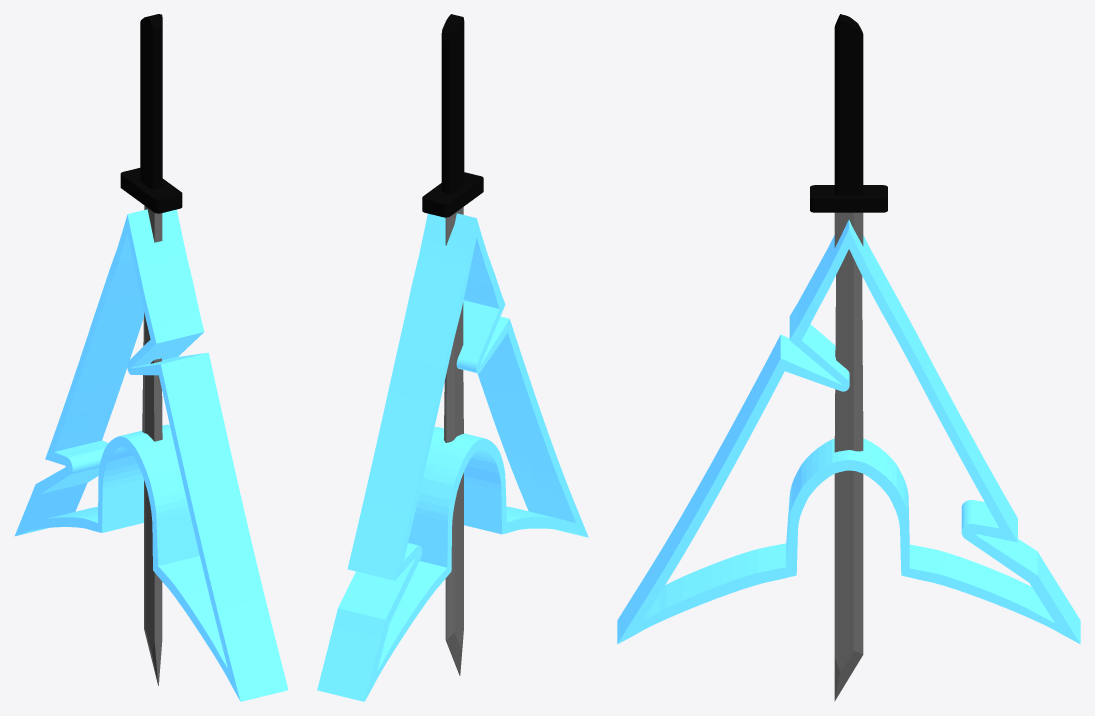
File: frame.fbx
3 views of the same model, side by side, from view 1: azimuth 30°, elevation 25°; view 2: azimuth 150°, elevation 25°; view 3: azimuth 270°, elevation 25° (orthographic). The views are drawn at different scales.
Visible parts, largest first — view 1: Cube; view 2: Cube; view 3: Cube.
Part boxes in pixels (box(x1,y1,x2,y2)): Cube: box(15, 14, 288, 701); Cube: box(317, 14, 588, 701); Cube: box(617, 14, 1080, 701).
Size of the model in its own units: 327 by 40.96 by 533.
